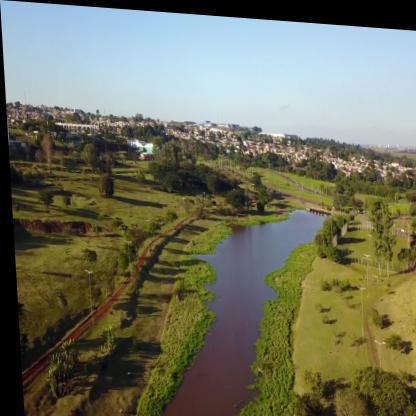agua: (193, 223, 271, 415)
